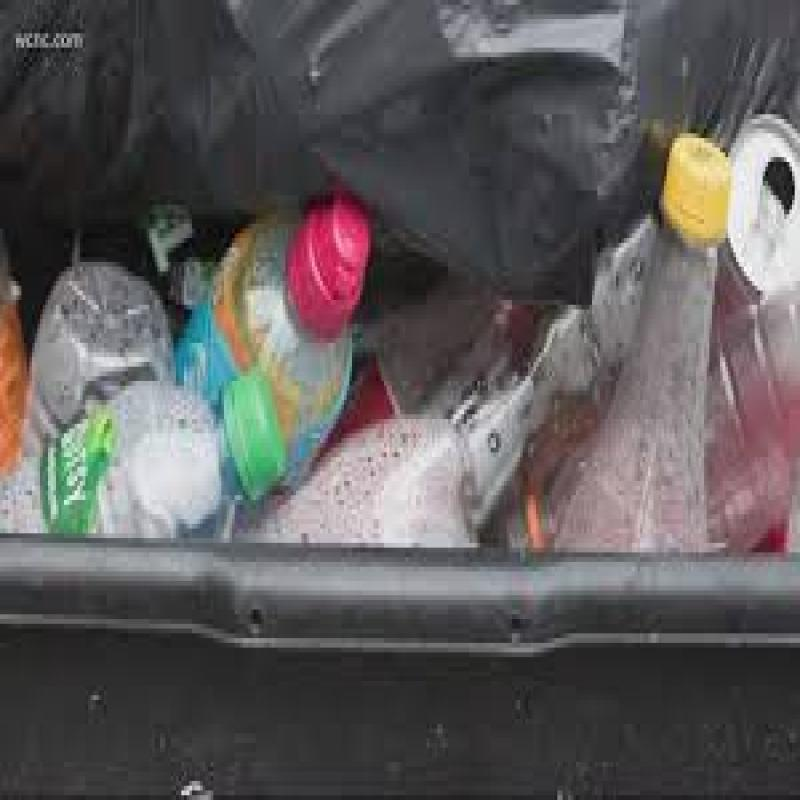botella: (488, 251, 800, 560), (535, 122, 737, 560), (156, 164, 365, 499), (0, 374, 281, 546), (21, 244, 175, 452)
